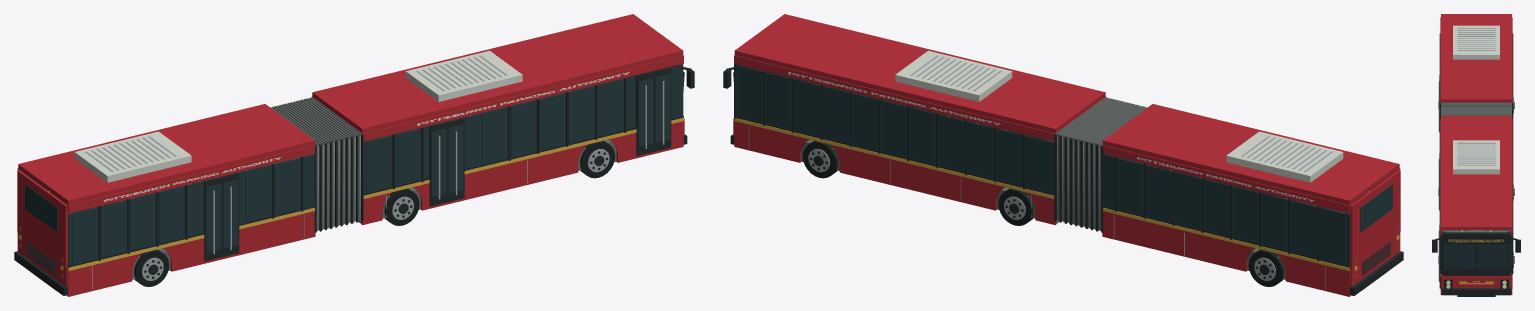
The model's file is new-flyer-xd60.glb.
3 views of the same model, side by side, from view 1: azimuth 30°, elevation 25°; view 2: azimuth 150°, elevation 25°; view 3: azimuth 270°, elevation 25° (orthographic). The views are drawn at different scales.
Parts seen in each view (by area): view 1: removable_roof (×2), side_window (×13), body_with_wheel_arches (×2), diesel_HVAC (×2), door_glass (×6), continuous_window_band (×2), curb_door (×3), upper_header (×2), label_PITTSBURGH PARKING AUTHORITY (×2), rear_fascia, tire (×3), gold_belt (×2) (+5 smaller); view 2: side_window (×19), removable_roof (×2), body_with_wheel_arches (×2), diesel_HVAC (×2), upper_header (×2), label_PITTSBURGH PARKING AUTHORITY (×2), rear_fascia, continuous_window_band (×2), gold_belt (×2), tire (×3), continuous_accordion_membrane, window_sill (×2) (+3 smaller); view 3: removable_roof (×2), diesel_HVAC (×2), split_windshield (×2), detail (×10), front_window_surround, HVAC_grille (×12), sculpted_nose, front_bumper, label_PITTSBURGH PARKING AUTHORITY, upper_header (×4), door_vertical_edge (×3), rounded_front_corner (×2) (+6 smaller).
Boxes of the visible parts, x1,y1,x2,y2 form: removable_roof (×2): (18,14,683,205); side_window (×13): (72,79,623,264); body_with_wheel_arches (×2): (67,121,683,296); diesel_HVAC (×2): (74,50,522,182); door_glass (×6): (206,74,670,252); continuous_window_band (×2): (68,64,683,265); curb_door (×3): (204,67,671,261); upper_header (×2): (67,55,683,213); label_PITTSBURGH PARKING AUTHORITY (×2): (100,69,634,204); rear_fascia: (17,170,68,267); tire (×3): (134,140,615,286); gold_belt (×2): (68,117,683,270); side_window (×19): (736,65,1345,264); removable_roof (×2): (734,14,1399,205); body_with_wheel_arches (×2): (734,121,1350,296); diesel_HVAC (×2): (895,50,1343,182); upper_header (×2): (734,55,1350,213); label_PITTSBURGH PARKING AUTHORITY (×2): (783,69,1317,204); rear_fascia: (1349,170,1400,267); continuous_window_band (×2): (736,65,1349,265); gold_belt (×2): (734,118,1349,270); tire (×3): (802,140,1283,286); continuous_accordion_membrane: (1057,135,1151,230); window_sill (×2): (735,116,1350,267); removable_roof (×2): (1441,14,1511,229); diesel_HVAC (×2): (1453,25,1499,174); split_windshield (×2): (1443,244,1509,268); detail (×10): (1441,102,1511,115); front_window_surround: (1442,232,1510,275); HVAC_grille (×12): (1457,142,1495,165); sculpted_nose: (1442,275,1510,288); front_bumper: (1441,288,1511,295); label_PITTSBURGH PARKING AUTHORITY: (1447,237,1505,244); upper_header (×4): (1440,17,1512,235); door_vertical_edge (×3): (1438,87,1439,281); rounded_front_corner (×2): (1441,231,1511,274).
Size of the model in its own units: 18.56 by 3.21 by 3.23.
161 materials, 8 textured.
